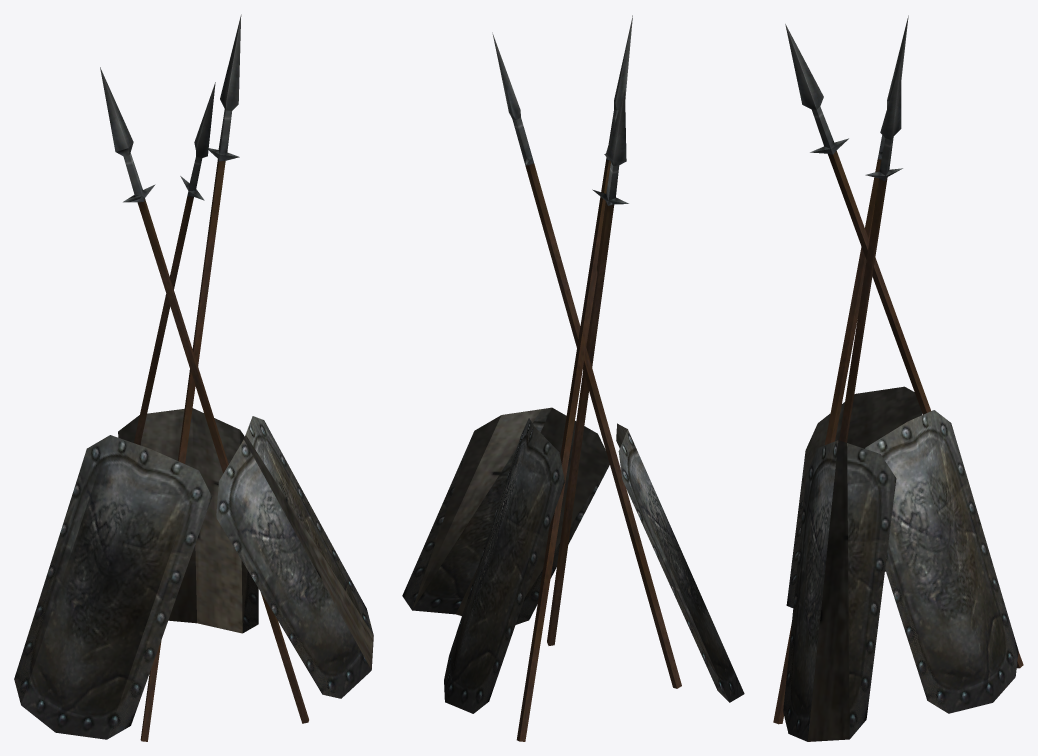
File: d_sg_shouyou_wuqijia02_qt.FBX
The picture shows the model from 3 angles, left to right: view 1: azimuth 30°, elevation 25°; view 2: azimuth 150°, elevation 25°; view 3: azimuth 270°, elevation 25°; orthographic projection.
Visible parts, largest first — view 1: d_sg_shouyou_wuqijia01_qt; view 2: d_sg_shouyou_wuqijia01_qt; view 3: d_sg_shouyou_wuqijia01_qt.
Boxes of the visible parts, x1,y1,x2,y2 form: d_sg_shouyou_wuqijia01_qt: (14,14,373,741); d_sg_shouyou_wuqijia01_qt: (402,15,744,741); d_sg_shouyou_wuqijia01_qt: (773,15,1023,741).
Size of the model in its own units: 1.43 by 2.68 by 0.9175.
